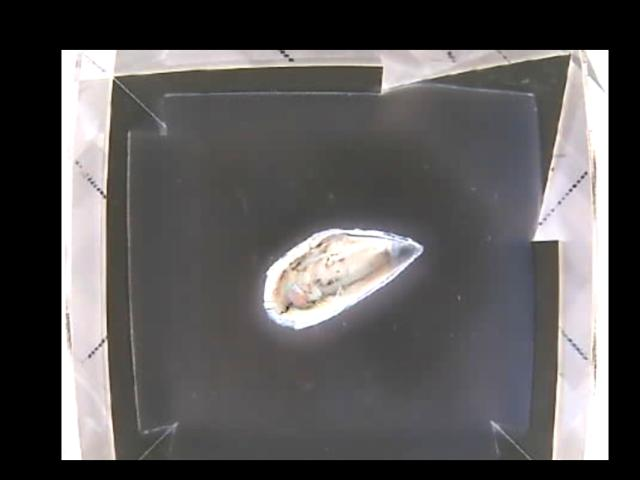Shell: (262, 226, 422, 334)
